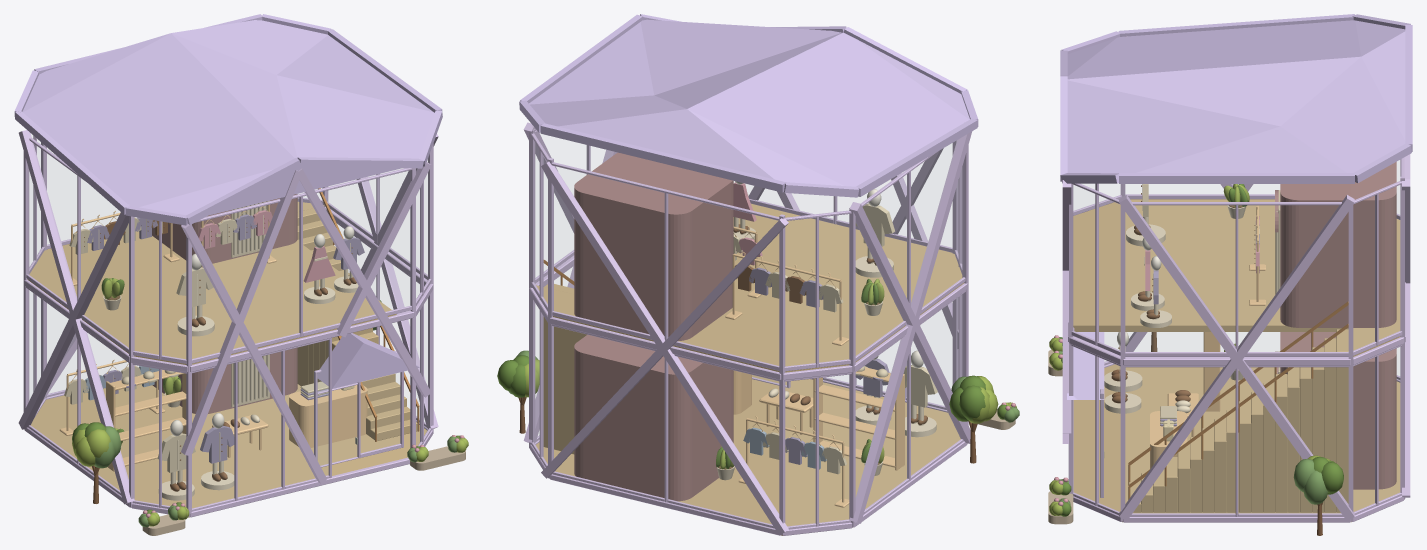
Rendered from 14-B-ac7e2cbcff20.glb.
3 views of the same model, side by side, from view 1: azimuth 30°, elevation 25°; view 2: azimuth 150°, elevation 25°; view 3: azimuth 270°, elevation 25° (orthographic). The views are drawn at different scales.
Visible parts, largest first — view 1: R 紫色折面顶, S 二层楼板, S 首层楼面, A 上层折面玻璃, A 正面菱形斜肋, A 侧面斜肋, A 转角柱, R 折面檐边, I 成衣, A 首层折面玻璃, S 梯级, A 粉色试衣盒 (+18 smaller); view 2: R 紫色折面顶, A 粉色试衣盒, S 二层楼板, S 首层楼面, A 上层折面玻璃, A 转角柱, A 侧面斜肋, R 折面檐边, A 背面斜肋, I 成衣, A 首层折面玻璃, A 紫色层间带 (+11 smaller); view 3: R 紫色折面顶, S 二层楼板, A 粉色试衣盒, S 梯级, S 首层楼面, A 侧面斜肋, R 折面檐边, A 转角柱, A 上层折面玻璃, A 首层折面玻璃, A 紫色层间带, I 模特台座 (+14 smaller).
Boxes of the visible parts, x1,y1,x2,y2 form: R 紫色折面顶: (22,20,434,215); S 二层楼板: (27,201,396,364); S 首层楼面: (31,384,427,517); A 上层折面玻璃: (26,135,431,363); A 正面菱形斜肋: (181,162,431,483); A 侧面斜肋: (18,130,438,504); A 转角柱: (23,142,433,516); R 折面檐边: (14,14,442,225); I 成衣: (64,210,364,472); A 首层折面玻璃: (26,222,431,508); S 梯级: (297,208,417,440); A 粉色试衣盒: (152,194,297,413); R 紫色折面顶: (529,19,969,186); A 粉色试衣盒: (574,152,733,501); S 二层楼板: (536,203,964,372); S 首层楼面: (536,375,960,535); A 上层折面玻璃: (530,130,965,371); A 转角柱: (529,129,968,535); A 侧面斜肋: (523,122,972,523); R 折面檐边: (519,14,978,197); A 背面斜肋: (541,161,788,535); I 成衣: (733,182,937,474); A 首层折面玻璃: (531,265,965,529); A 紫色层间带: (529,255,967,380); R 紫色折面顶: (1067,20,1405,173); S 二层楼板: (1073,199,1400,356); A 粉色试衣盒: (1280,162,1396,489); S 梯级: (1129,329,1348,512); S 首层楼面: (1073,364,1400,522); A 侧面斜肋: (1119,36,1354,521); R 折面檐边: (1060,14,1412,183); A 转角柱: (1069,159,1404,521); A 上层折面玻璃: (1071,157,1404,356); A 首层折面玻璃: (1070,344,1402,516); A 紫色层间带: (1068,282,1405,365); I 模特台座: (1104,224,1171,413).
Bounding box in the file's own units: 23.08 × 20.6 × 17.58.
